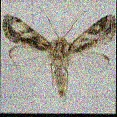Spodoptera litura: (1, 6, 116, 103)
